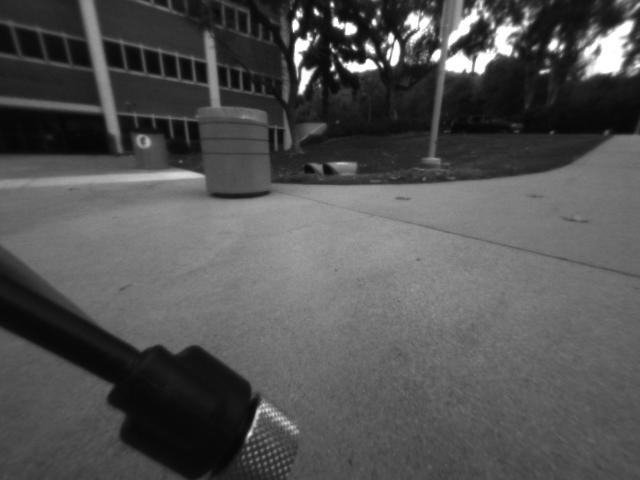trashcan: (188, 96, 283, 206), (124, 117, 174, 176)
